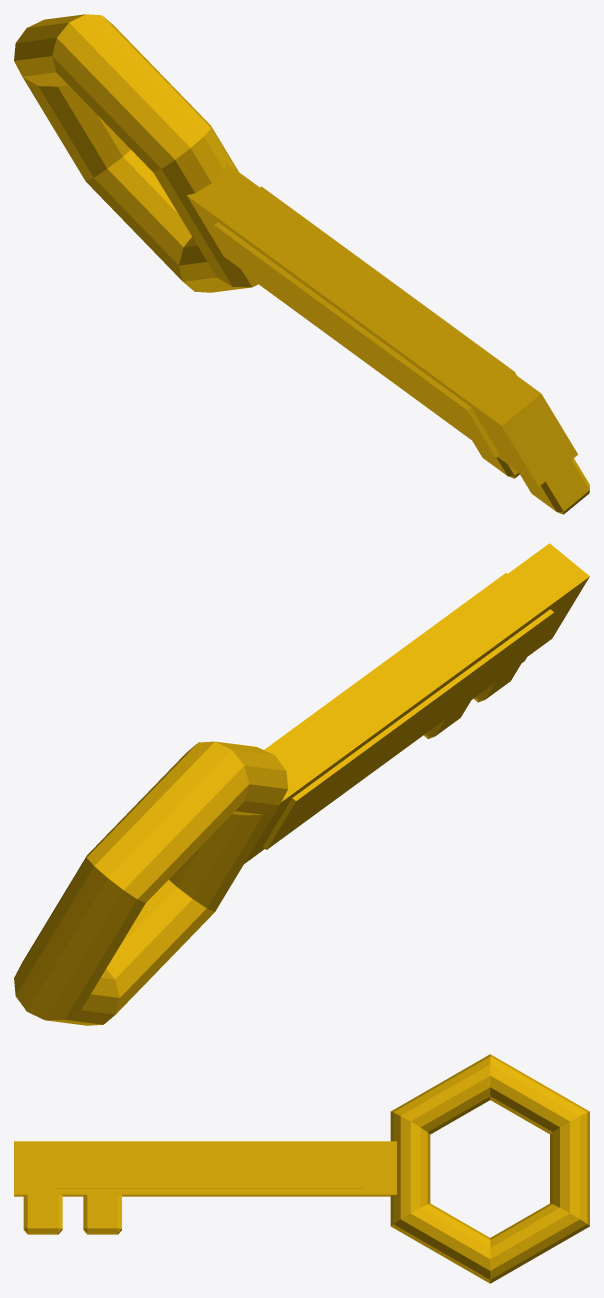
The model's file is chave.fbx.
3 views of the same model, one above another, from view 1: azimuth 30°, elevation 25°; view 2: azimuth 150°, elevation 25°; view 3: azimuth 270°, elevation 25° (orthographic). The views are drawn at different scales.
Visible parts, largest first — view 1: Cube, Torus, Cube.001; view 2: Torus, Cube; view 3: Torus, Cube, Cube.001, Cube.002.
Part boxes in pixels (x1,y1,x2,y2): Cube: (187,163,577,486); Torus: (14,14,258,292); Cube.001: (519,458,589,514); Torus: (14,741,287,1025); Cube: (244,543,589,863); Torus: (390,1054,589,1283); Cube: (14,1141,396,1196); Cube.001: (23,1194,62,1234); Cube.002: (83,1194,121,1234).
Size of the model in its own units: 64.38 by 98.87 by 275.
